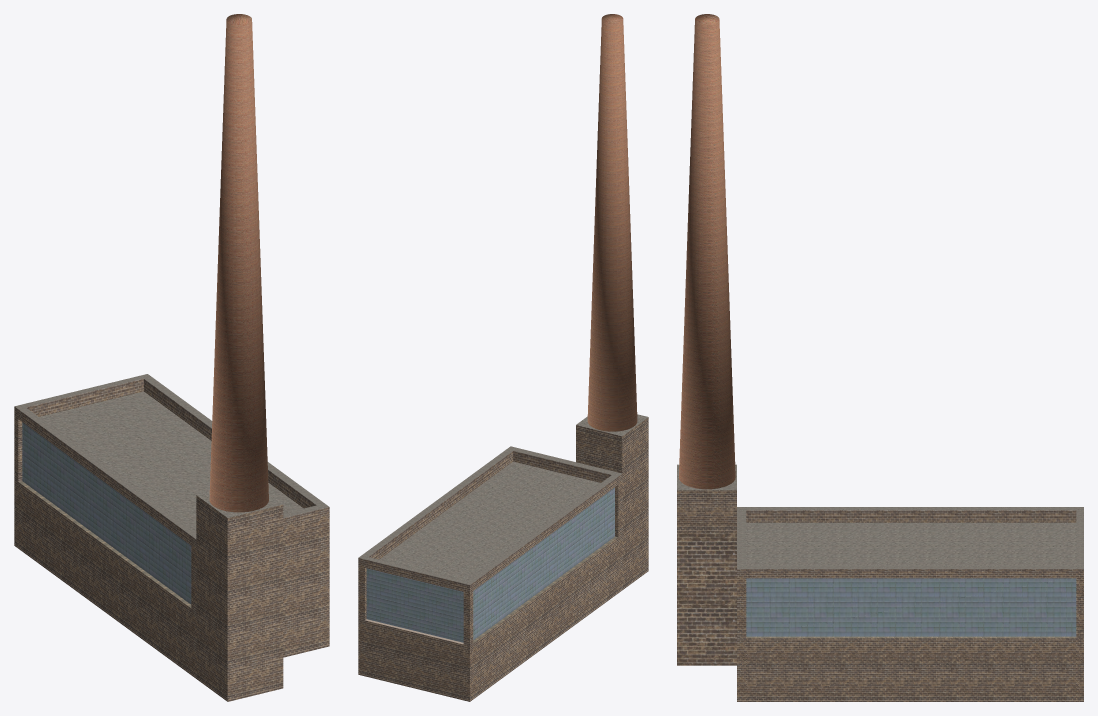
Rendered from all.obj.
3 views of the same model, side by side, from view 1: azimuth 30°, elevation 25°; view 2: azimuth 150°, elevation 25°; view 3: azimuth 270°, elevation 25° (orthographic). The views are drawn at different scales.
Parts seen in each view (by area): view 1: Fabrik, Schornstein; view 2: Fabrik, Schornstein; view 3: Fabrik, Schornstein.
Part boxes in pixels (box(x1,y1,x2,y2)): Fabrik: box(14, 374, 329, 701); Schornstein: box(209, 14, 268, 512); Fabrik: box(358, 414, 648, 701); Schornstein: box(587, 14, 637, 431); Fabrik: box(677, 464, 1083, 701); Schornstein: box(679, 14, 735, 489).
Size of what is drawn, in the model's own units: 22 by 105 by 61.
